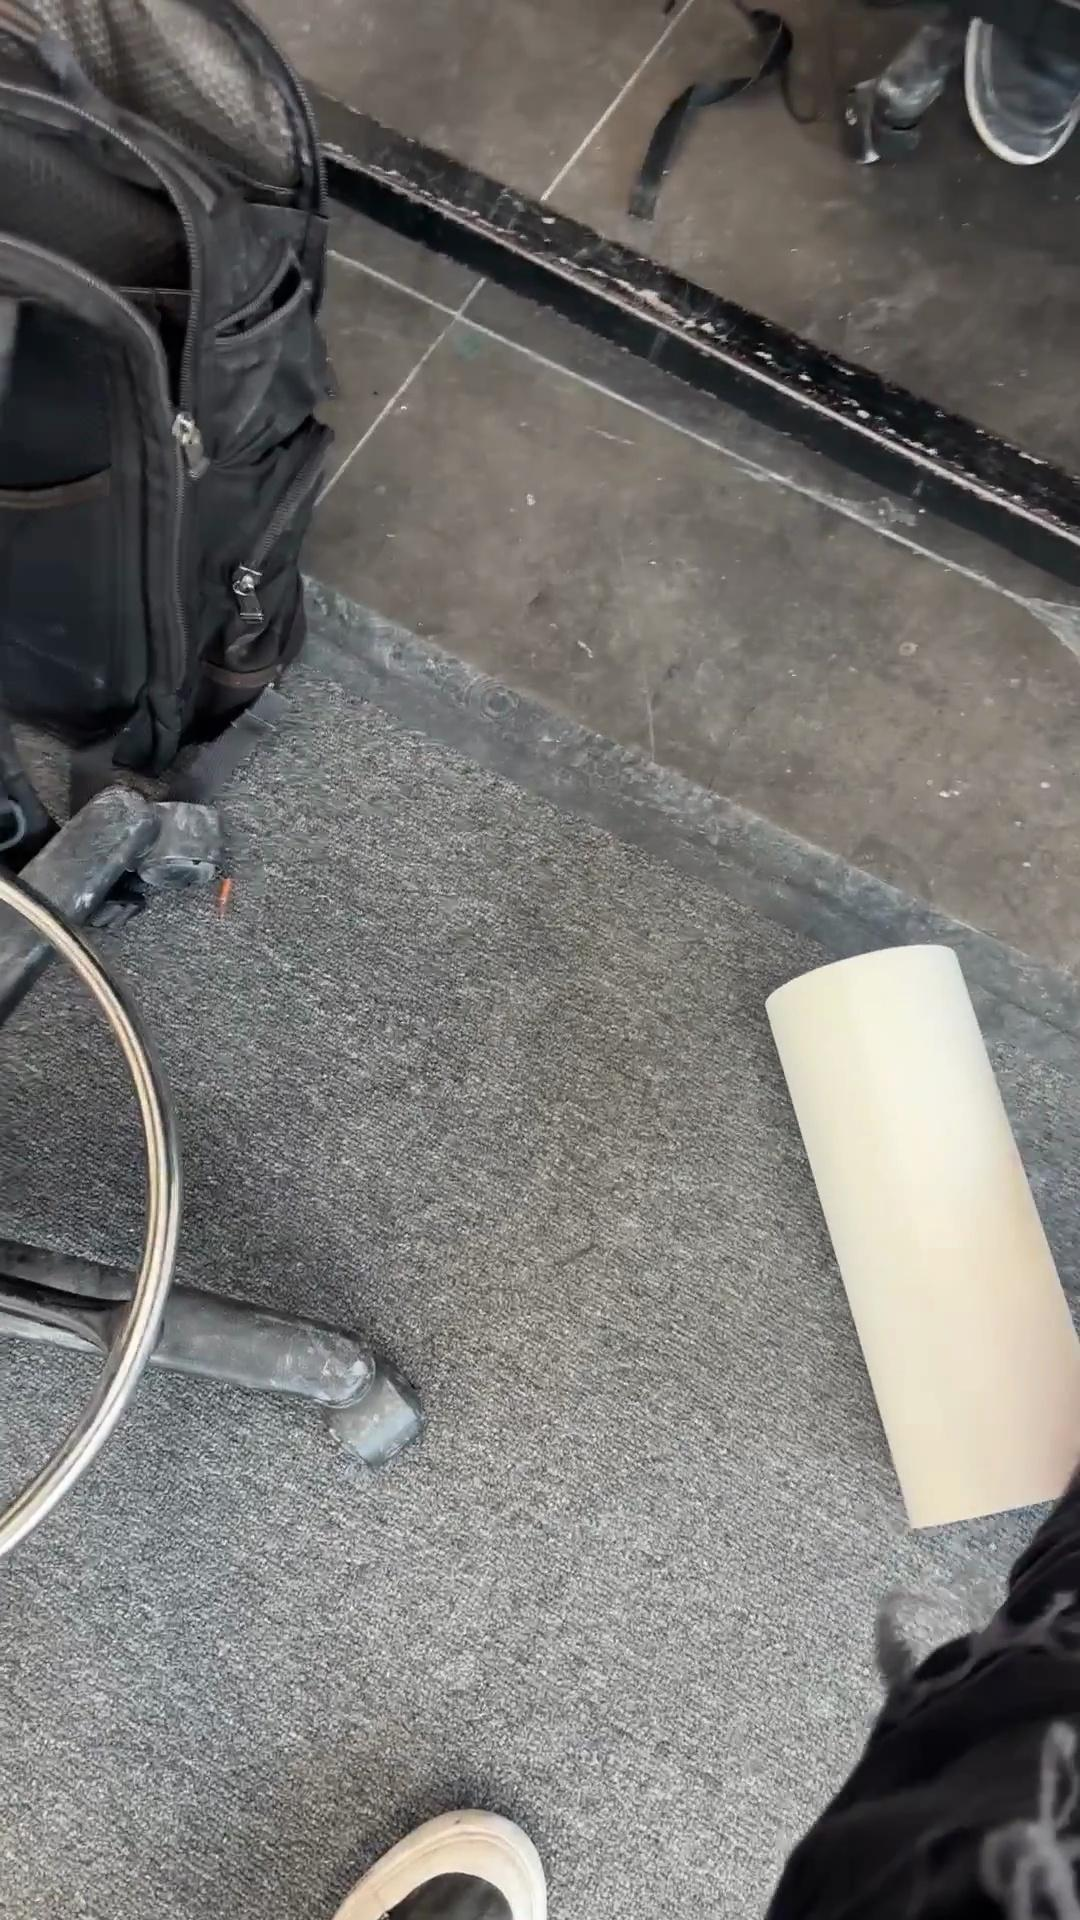CORAL: (762, 939, 1077, 1529)
